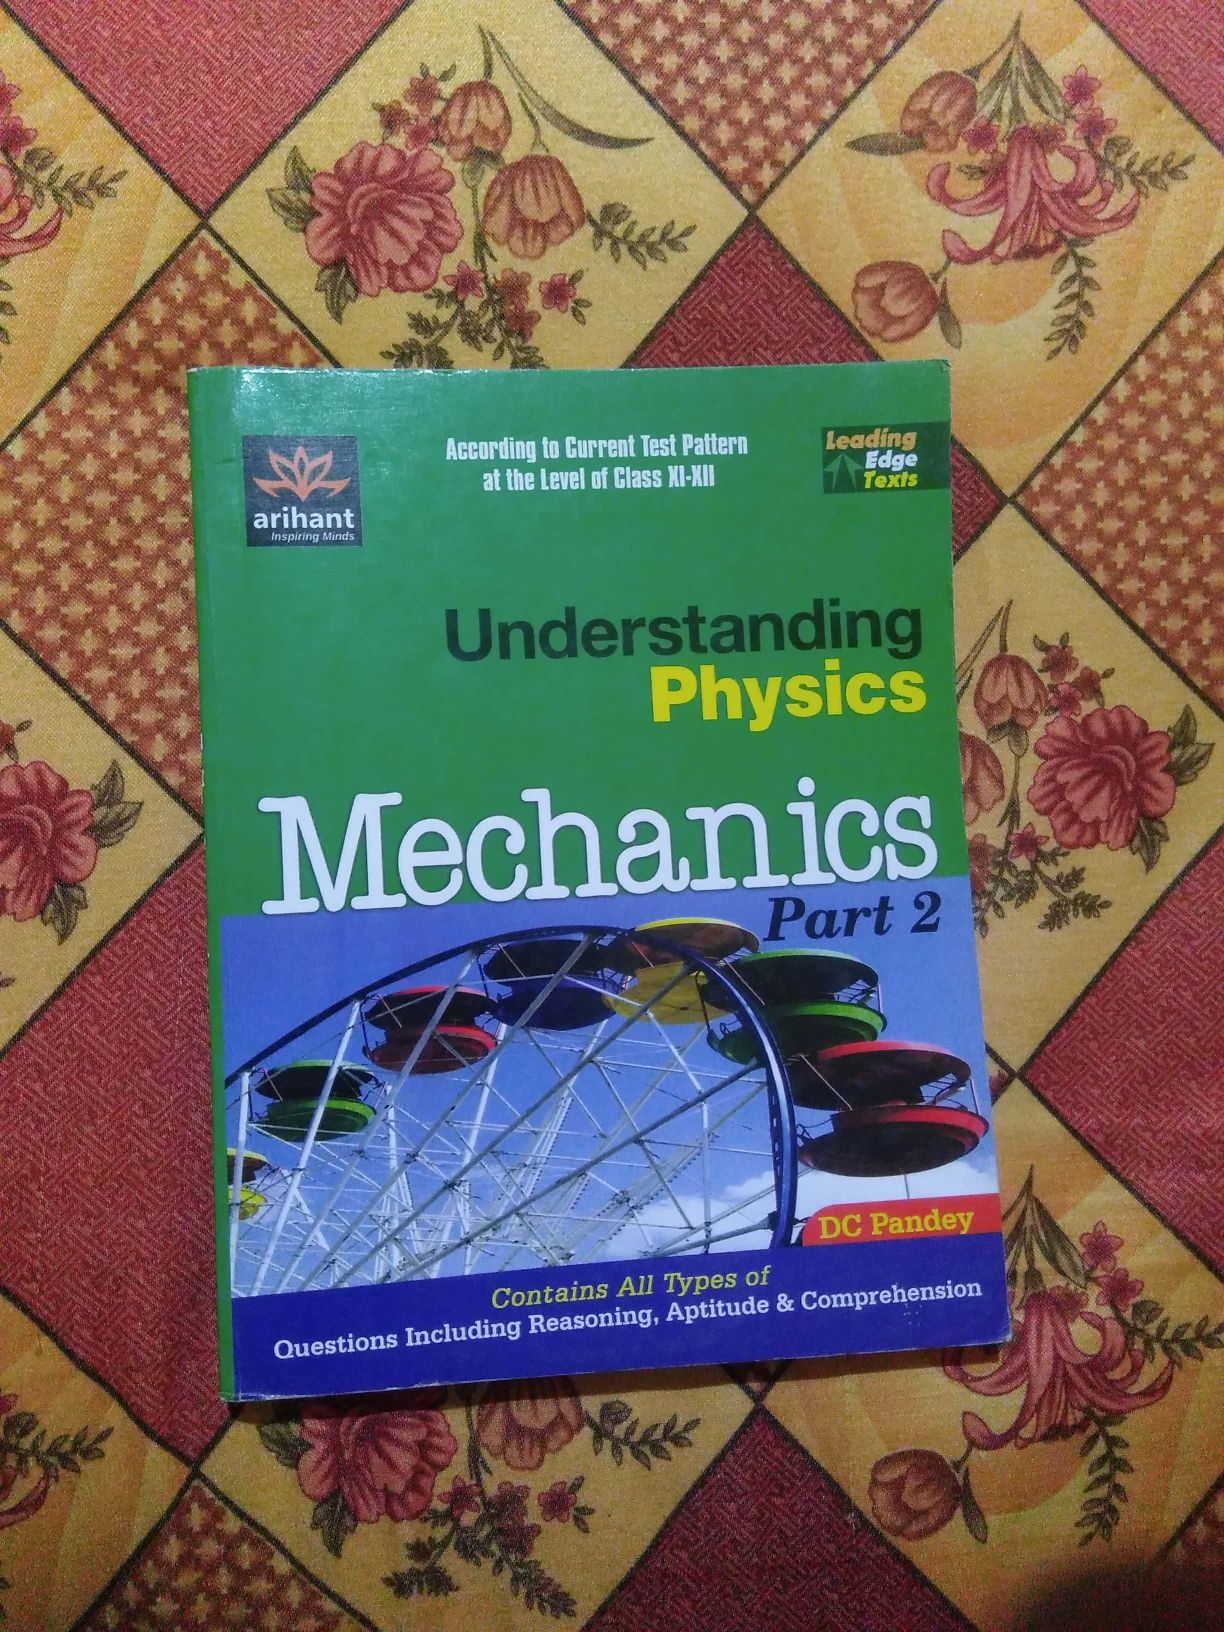mechanics: (150, 297, 1066, 1423)
